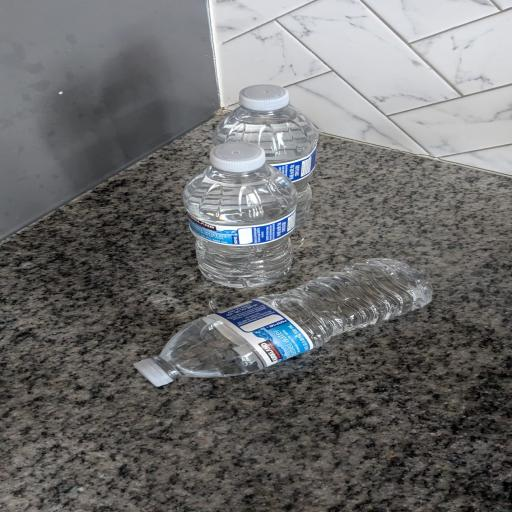waterbottle: (135, 259, 432, 386), (183, 143, 296, 287), (214, 85, 318, 227)
